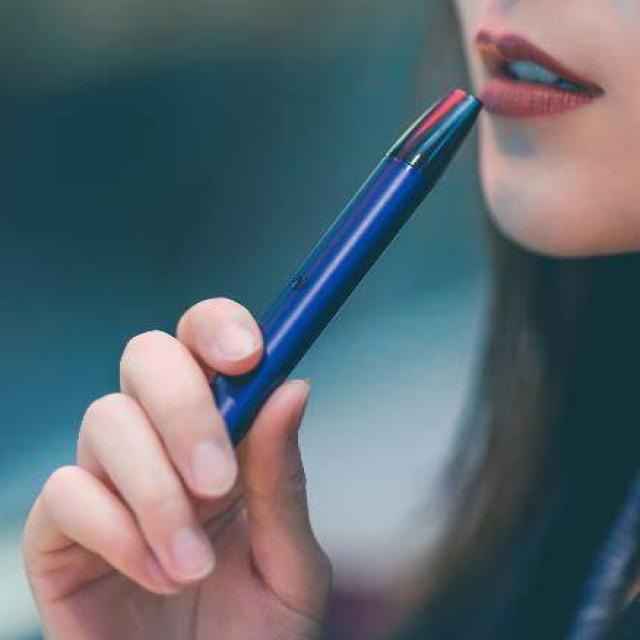Hazard: (213, 81, 481, 452)
